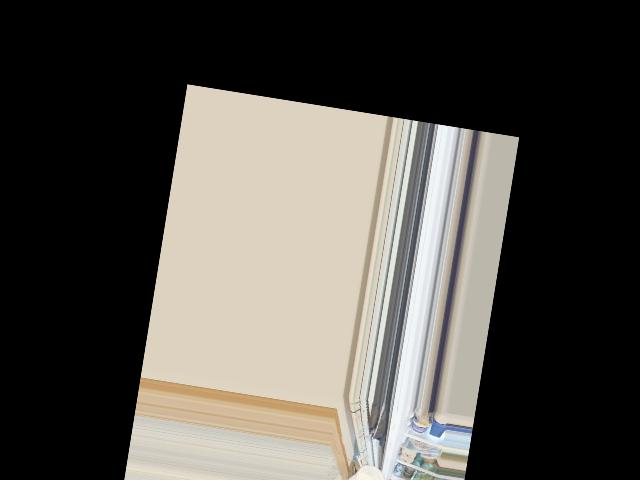cotage: (341, 462, 383, 480)
